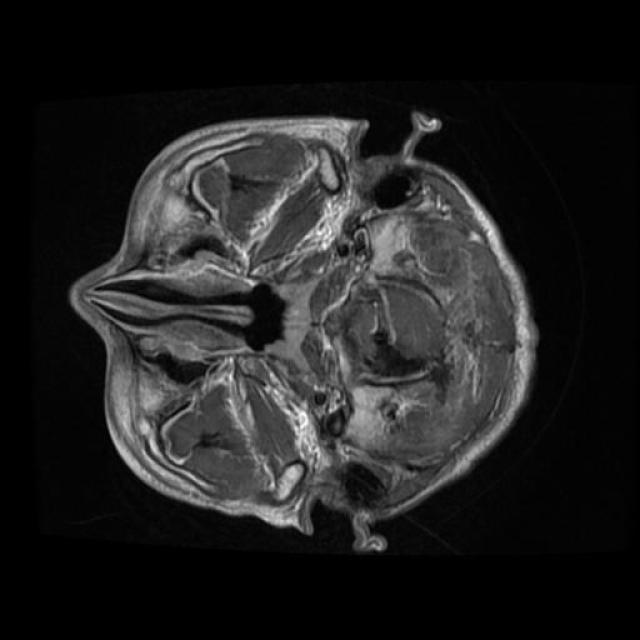Glioma: (408, 212, 476, 286)
